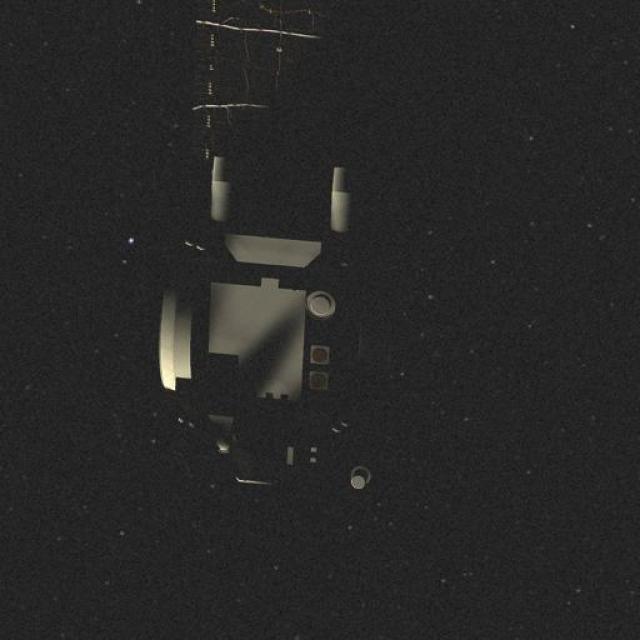proba_3_csc: (115, 0, 422, 526)
